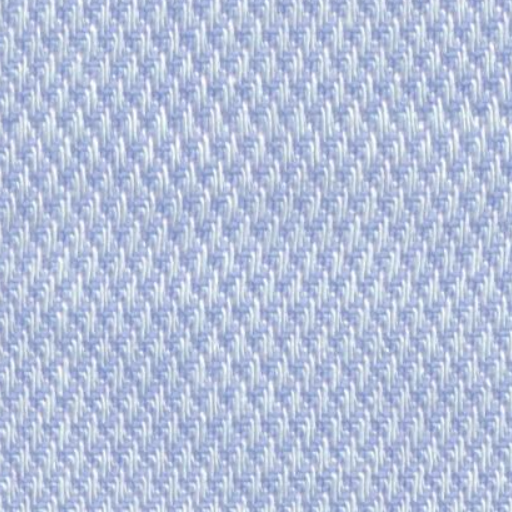TuoSha: (28, 88, 490, 156)
